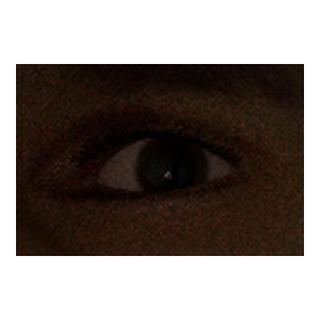pupil: (152, 148, 193, 189)
